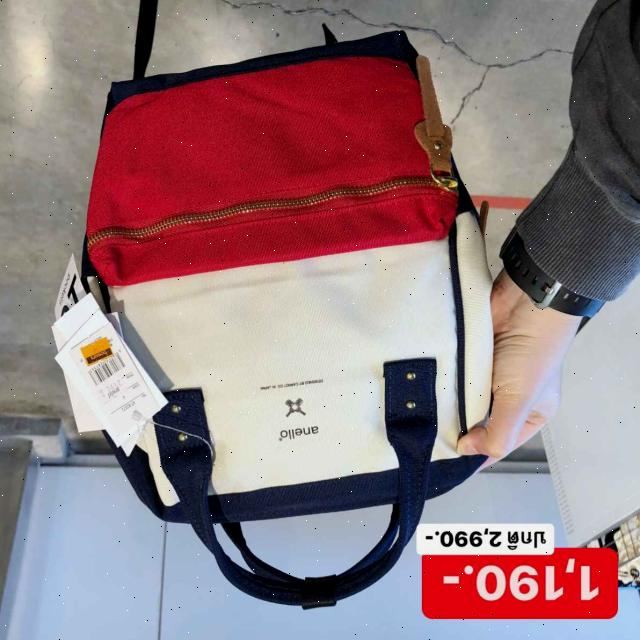Handbag: (68, 26, 508, 598)
